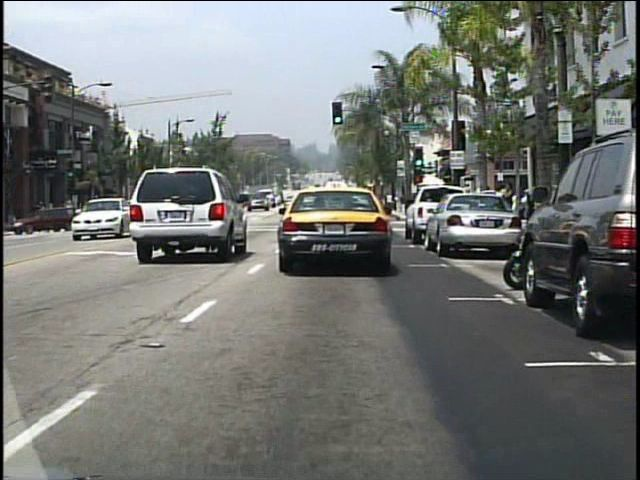person: (498, 181, 516, 230)
